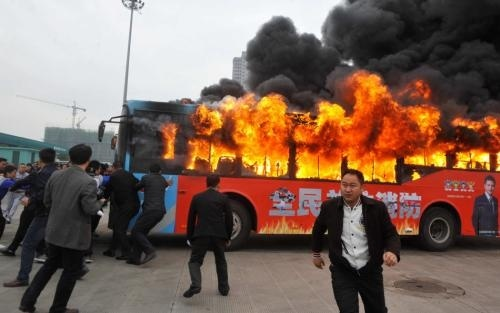fire: (176, 69, 500, 180), (161, 119, 178, 159)
